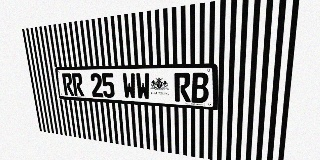2: (90, 73, 103, 97)
5: (101, 73, 115, 98)
B: (191, 72, 209, 103)
R: (174, 73, 191, 102), (71, 73, 84, 96), (62, 73, 74, 96)
W: (135, 73, 150, 100), (122, 73, 137, 99)
